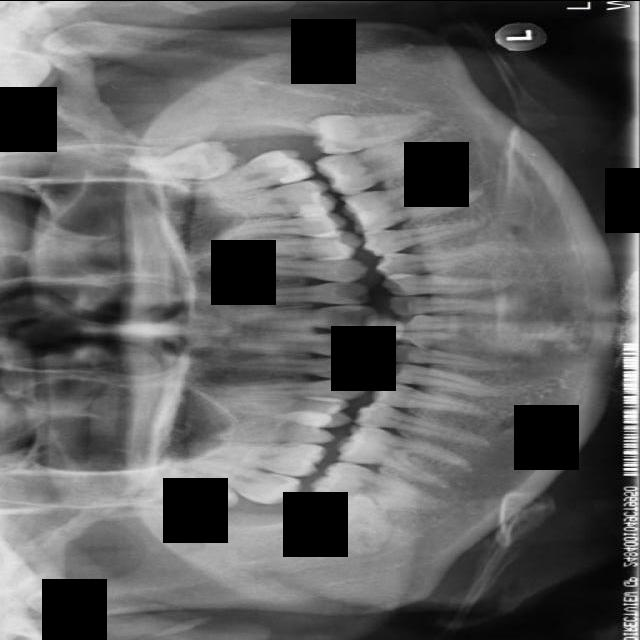3M ESPE Implant: (122, 441, 239, 531)
73: (573, 63, 583, 95)
BioHorizons Implant: (189, 144, 313, 201)
BioLife Implant: (137, 136, 236, 190)
Biomet 3i Implant: (311, 108, 425, 154)
Blue Sky Bio Implant: (316, 133, 445, 198)
Caries: (191, 456, 301, 510)
Implant: (310, 455, 446, 516)
Keystone Dental Implant: (297, 489, 391, 565)
